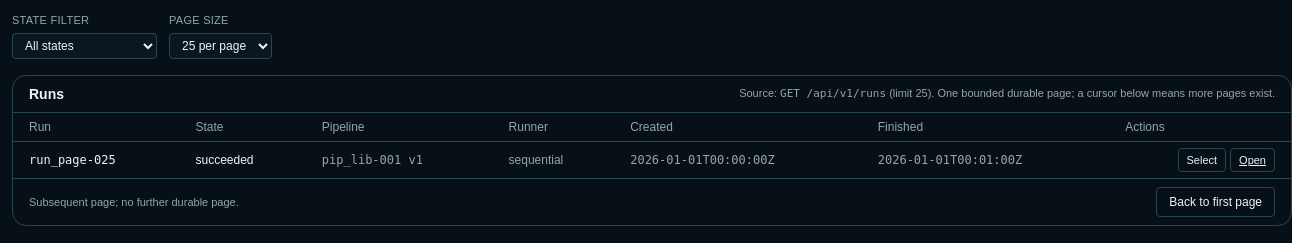
Test case: RunList › returns a direct-entry cursor page to the first page without browser history
Expected: the row with test id "run-row-run_page-025" is shown, [13,141,1291,178]
Click the button "Back to first page" at point(1216, 202), box [1156,187,1275,217]
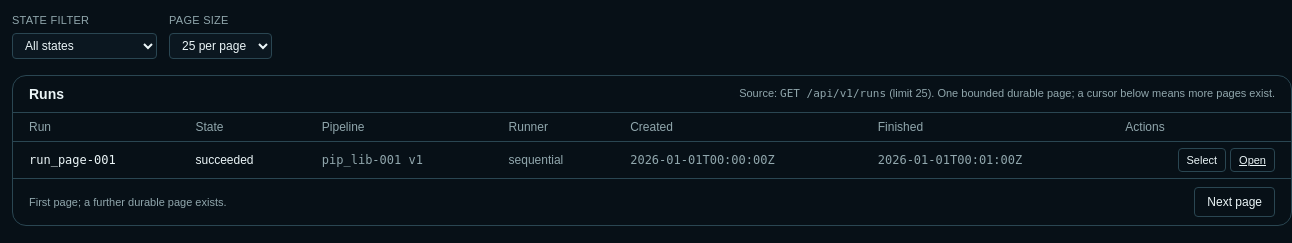
Now the row with test id "run-row-run_page-001" is shown, box [13,141,1291,178]
